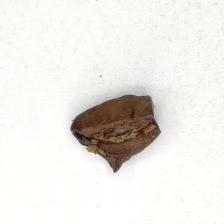NG: (70, 119, 120, 177), (138, 96, 166, 138)
